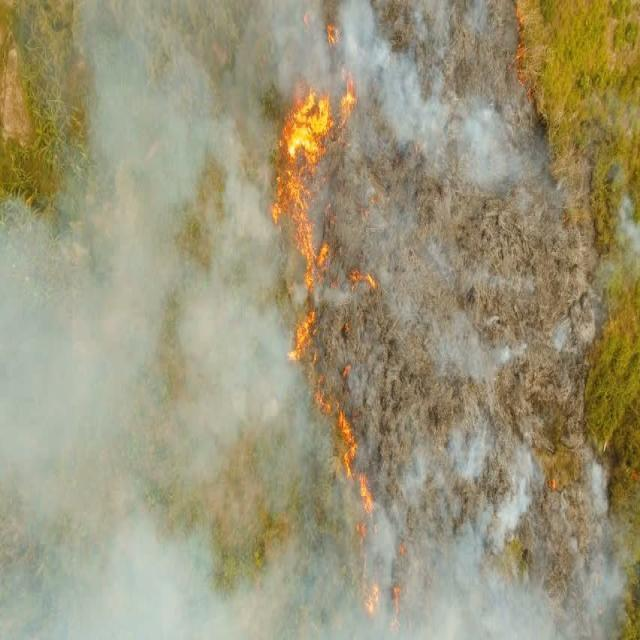Fire: (294, 225, 371, 525), (278, 85, 339, 202), (348, 539, 398, 617)
Smoke: (8, 0, 228, 640), (407, 33, 640, 635), (226, 15, 278, 640)
